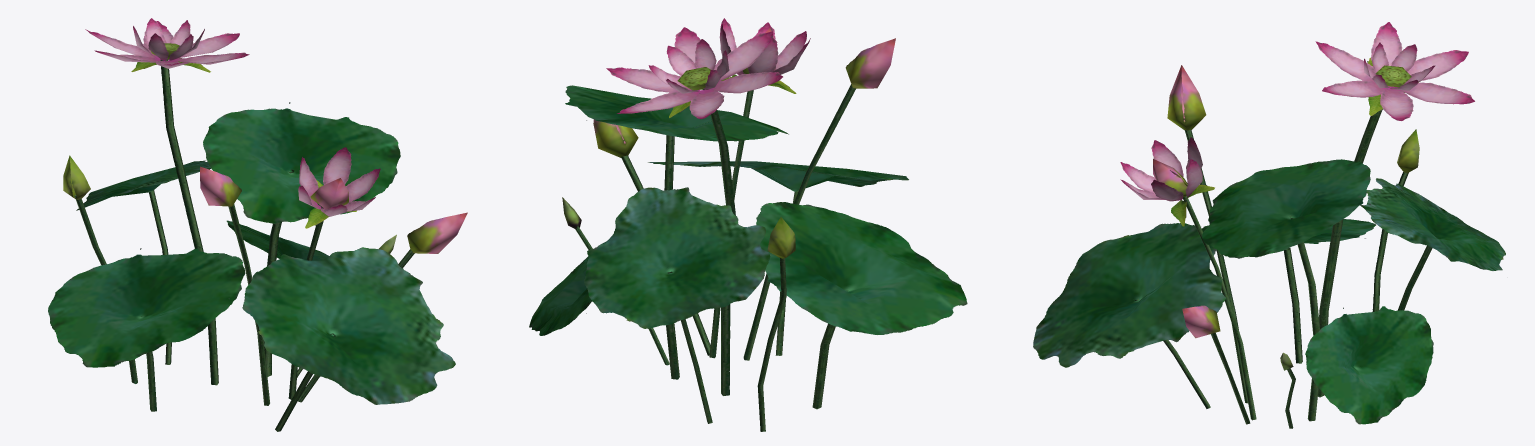
The model's file is hehua.FBX.
The picture shows the model from 3 angles, left to right: view 1: azimuth 30°, elevation 25°; view 2: azimuth 150°, elevation 25°; view 3: azimuth 270°, elevation 25°; orthographic projection. The views are drawn at different scales.
Visible parts, largest first — view 1: Object07; view 2: Object07; view 3: Object07.
Boxes of the visible parts, x1,y1,x2,y2 form: Object07: [48, 18, 467, 431]; Object07: [529, 18, 967, 431]; Object07: [1033, 22, 1505, 428].
Size of the model in its own units: 169 by 137 by 178.
